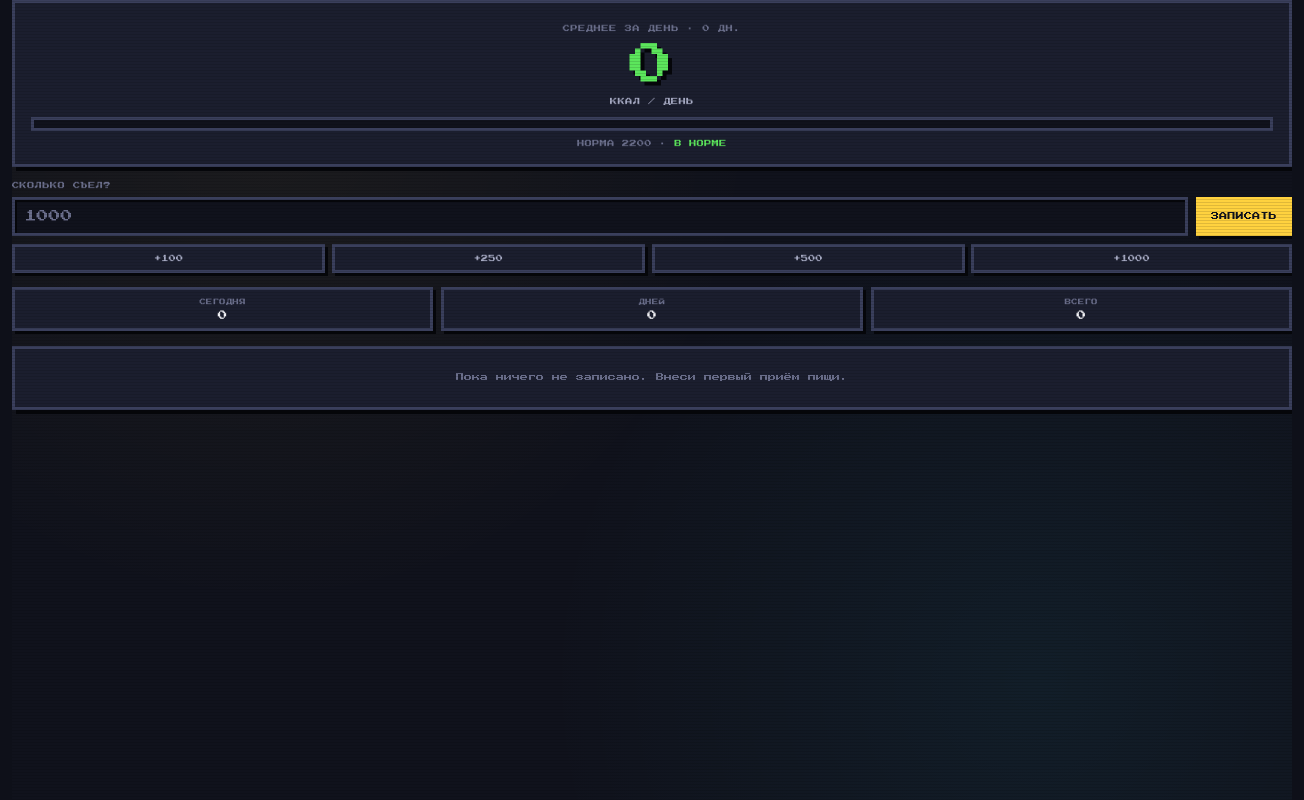
Scenario: CaloriePageComponent › validation › rejects zero
This screenshot has width=1304, height=800.
In the number field with class "entry-input": (600, 216) top-left (12, 197), bottom-right (1188, 236), type "0"
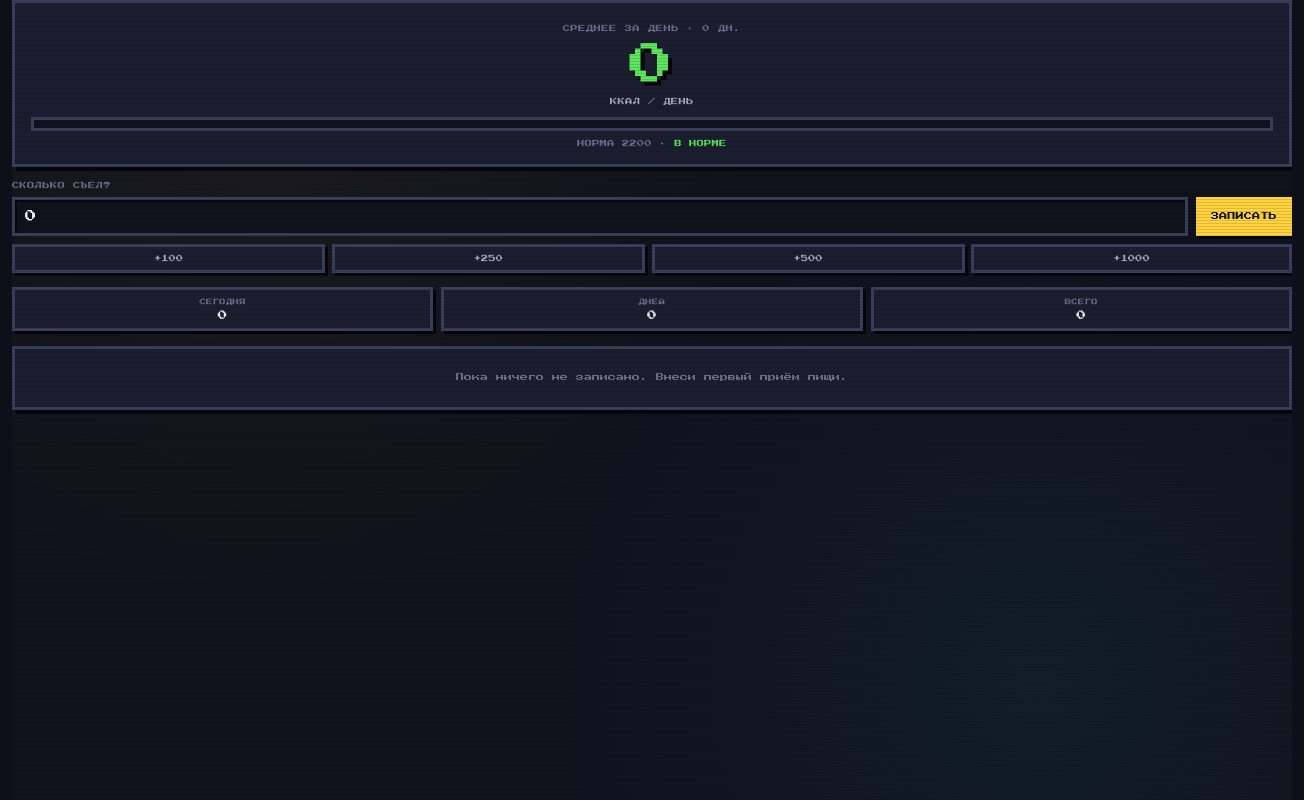
Submit the form with class "entry-form", box top-left (12, 182), bottom-right (1292, 272)
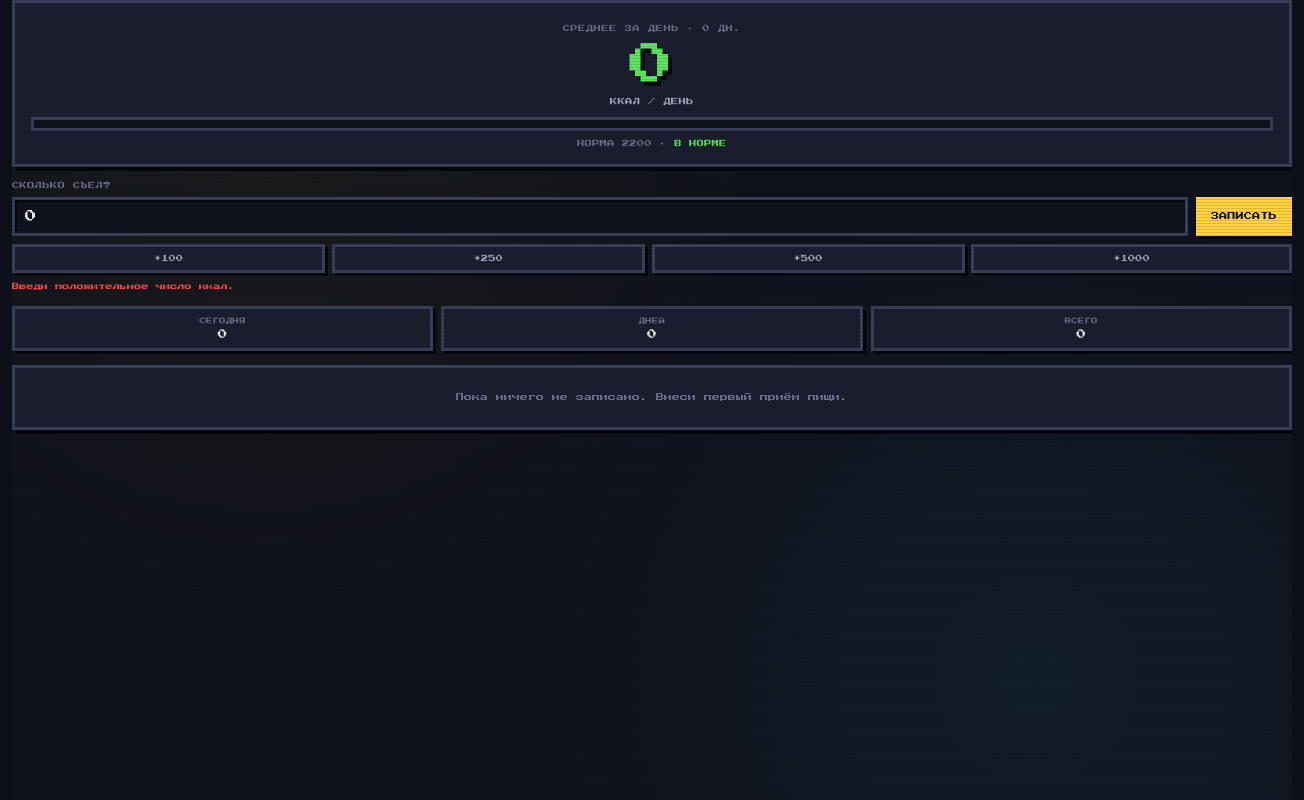
Check: the message "Введи положительное число ккал." is shown, box top-left (12, 282), bottom-right (235, 290)
